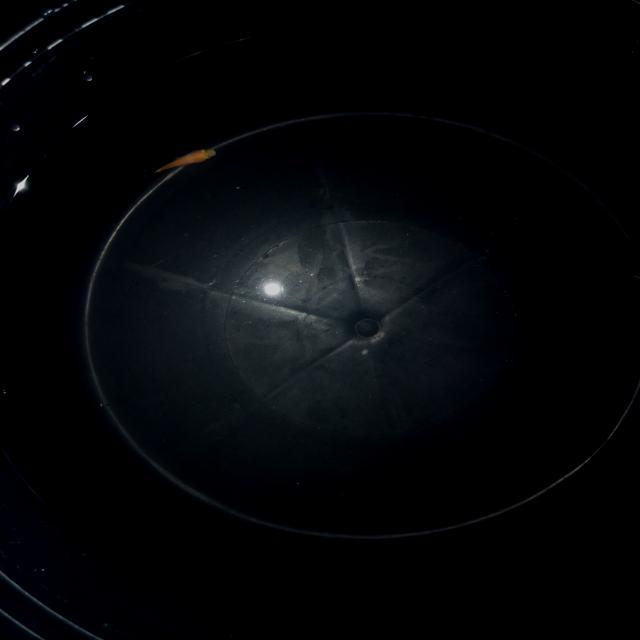nila: (144, 142, 220, 180)
